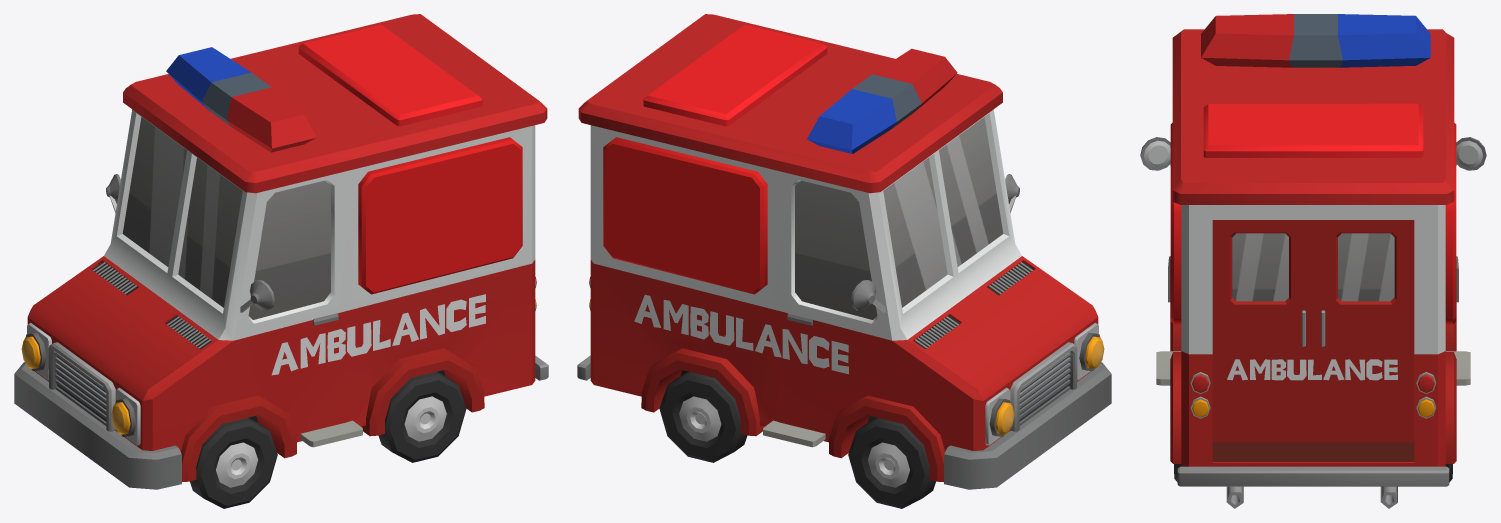
Rendered from Ambulance_1_A.gltf.
The picture shows the model from 3 angles, left to right: view 1: azimuth 30°, elevation 25°; view 2: azimuth 150°, elevation 25°; view 3: azimuth 270°, elevation 25°; orthographic projection. The views are drawn at different scales.
Visible parts, largest first — view 1: Ambulance_1_A, RL, FL; view 2: Ambulance_1_A, RR, FR; view 3: Ambulance_1_A.
Boxes of the visible parts, left/top/right/bottom form: Ambulance_1_A: left=14, top=14, right=548, bottom=489; RL: left=378, top=371, right=466, bottom=462; FL: left=190, top=418, right=277, bottom=508; Ambulance_1_A: left=577, top=14, right=1111, bottom=489; RR: left=659, top=371, right=747, bottom=462; FR: left=848, top=418, right=935, bottom=508; Ambulance_1_A: left=1140, top=14, right=1486, bottom=508.
Bounding box in the file's own units: 2.75 × 2.22 × 1.8.
4 materials, 4 textured.
